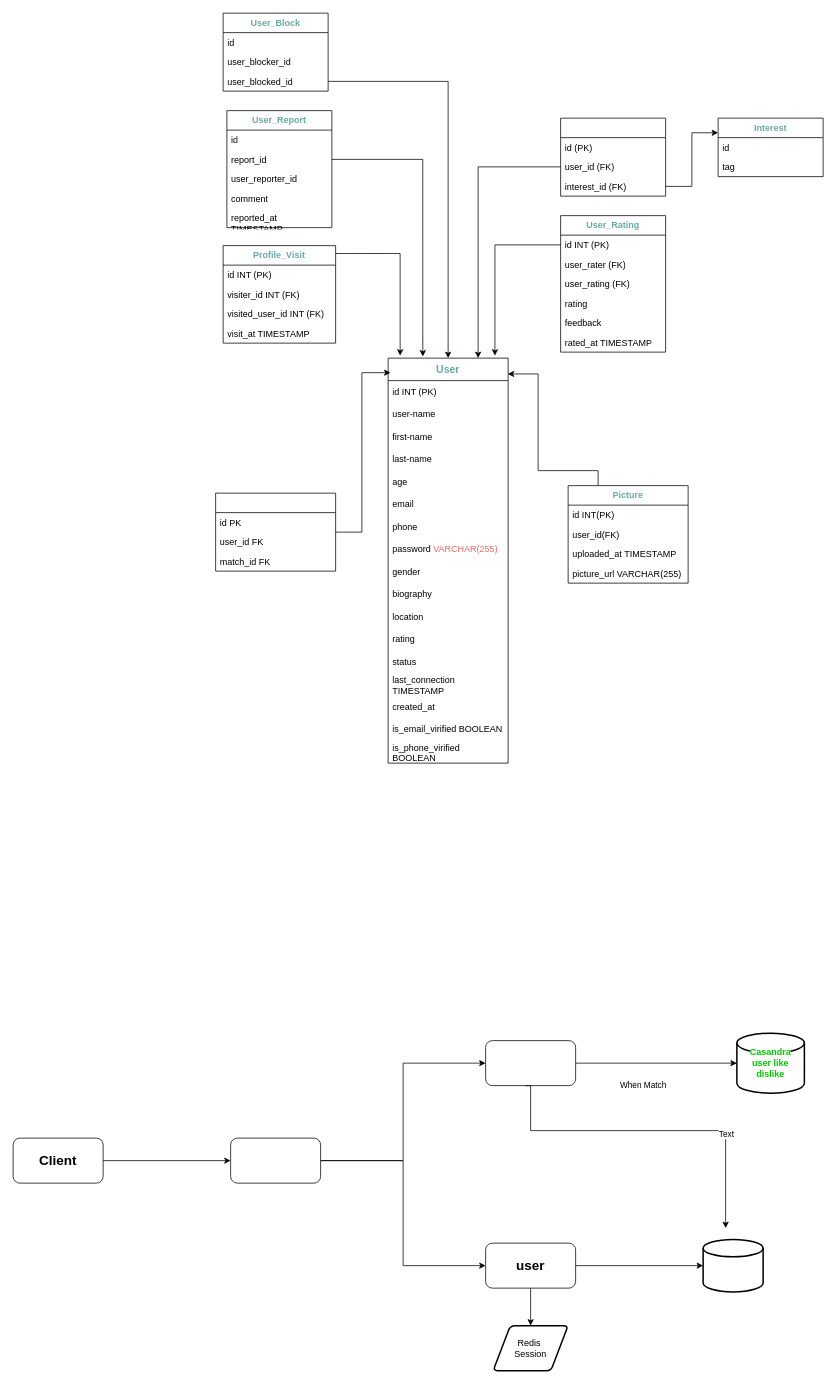
This 836x1385 diagram has some shape labels left out. Here are the shapes that lost their labels. From the top down, the box of each, then its label:
(560, 117, 666, 196): User_Interest
(215, 492, 336, 571): matches
(485, 1040, 576, 1086): Swipe (Like Dislike)
(230, 1137, 321, 1183): Nginx
(702, 1238, 764, 1292): PSQL pfrofile info
